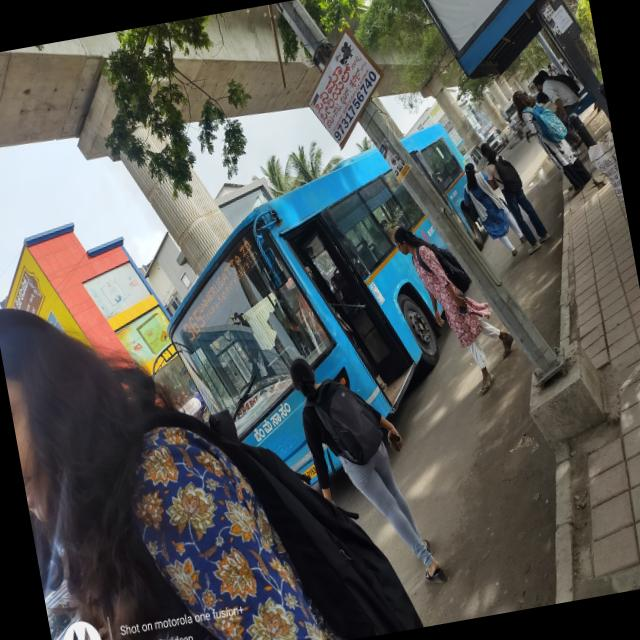bus: (146, 120, 522, 550)
display: (160, 240, 272, 347)
dnumber: (178, 308, 212, 340)
